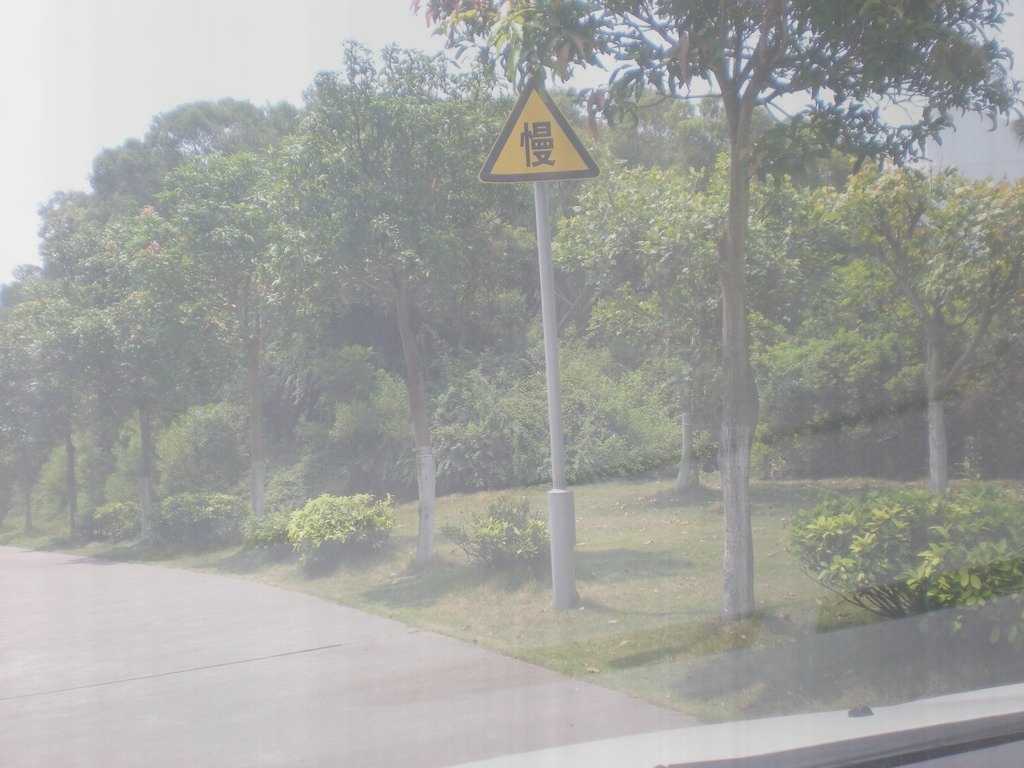Warning Signs: (469, 76, 605, 186)
